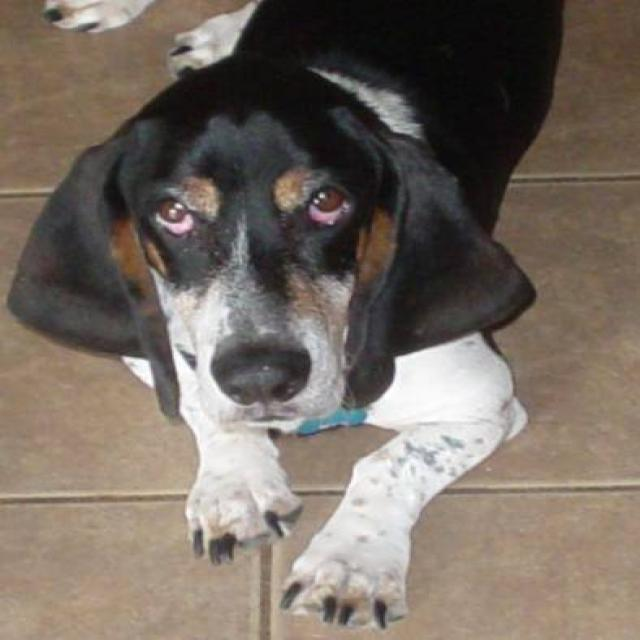dog: (5, 0, 568, 631)
